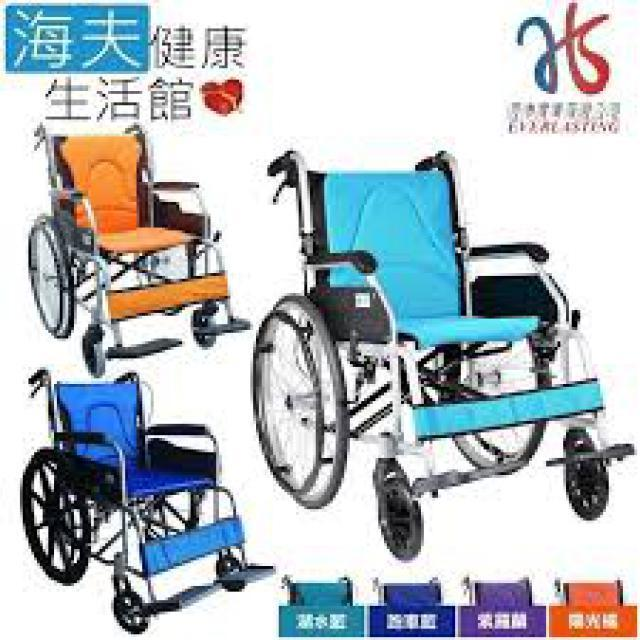wheelchairs: (257, 138, 633, 556), (22, 370, 272, 635), (28, 118, 249, 377)
